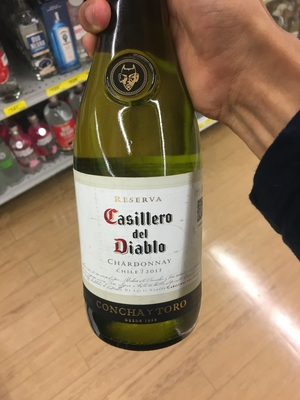casillero del diablo chardonnay: (69, 3, 211, 348)
